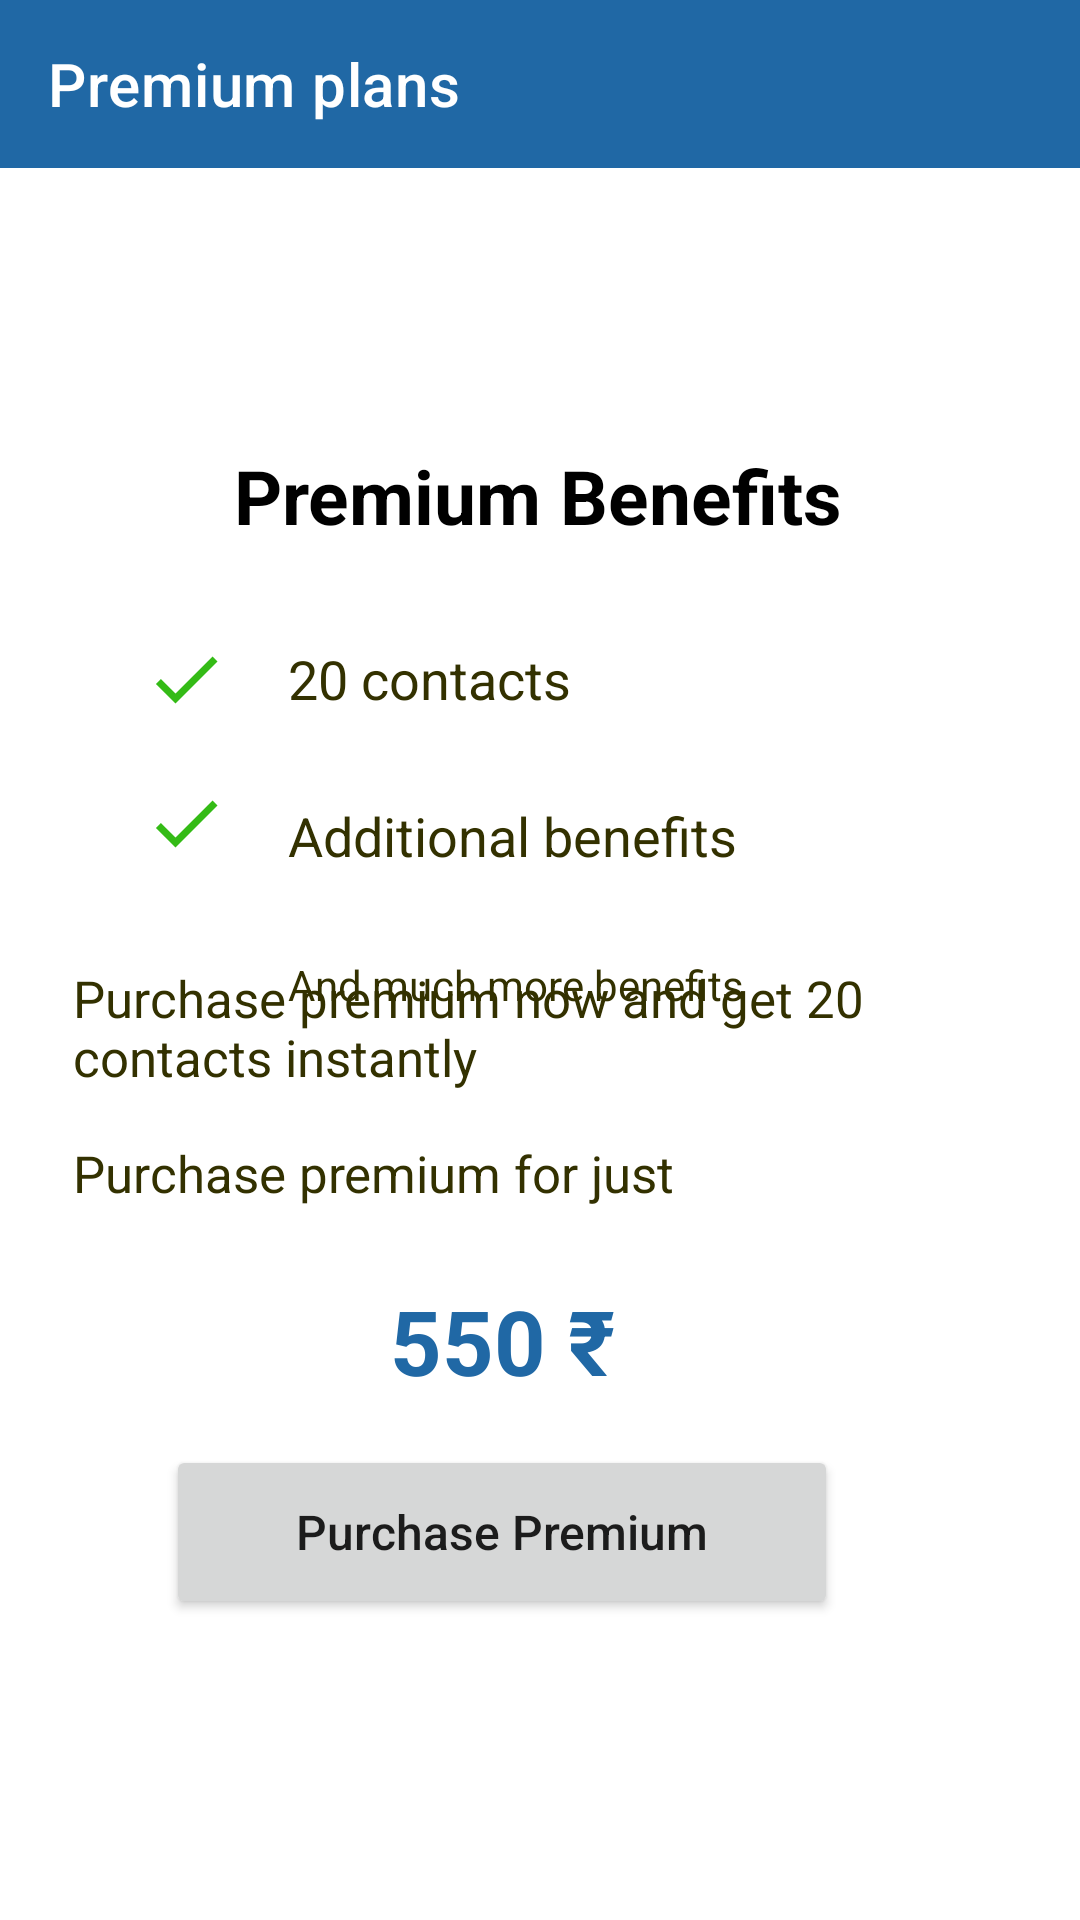

Icons on this 1080*1920 Android screen, each with the point to tap as (x,y):
check: (187,680), (187,824)
